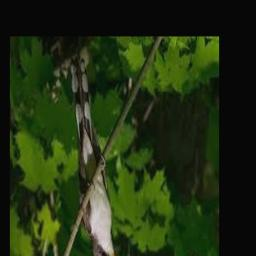Cuckoo: (70, 58, 120, 256)
